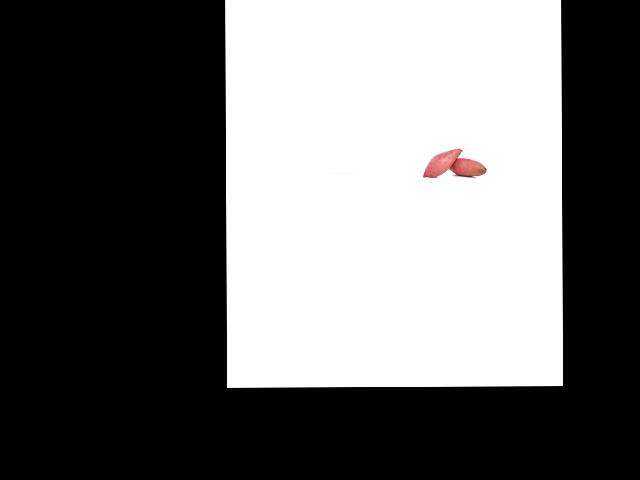sweet_potato: (446, 155, 487, 176)
